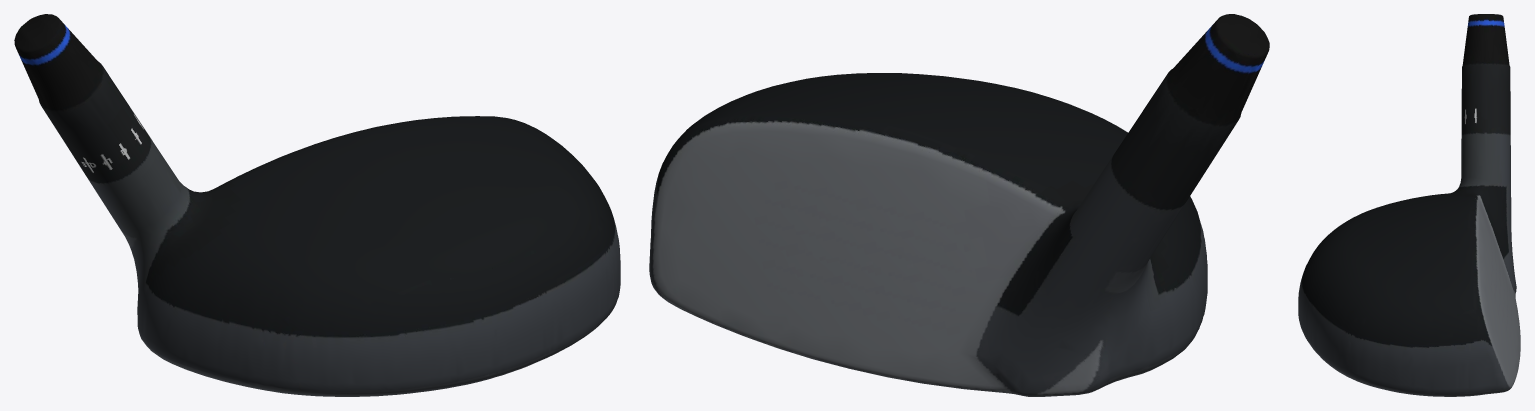
3 renders of one model, left to right at view 1: azimuth 30°, elevation 25°; view 2: azimuth 150°, elevation 25°; view 3: azimuth 270°, elevation 25°, orthographic. The views are drawn at different scales.
Parts seen in each view (by area): view 1: head; view 2: head; view 3: head.
Boxes of the visible parts, x1=… form: head: x1=14, y1=14, x2=620, y2=396; head: x1=649, y1=14, x2=1269, y2=396; head: x1=1298, y1=14, x2=1520, y2=396.
Size of the model in its own units: 0.1156 by 0.0736 by 0.0626.
1 material, 1 textured.
